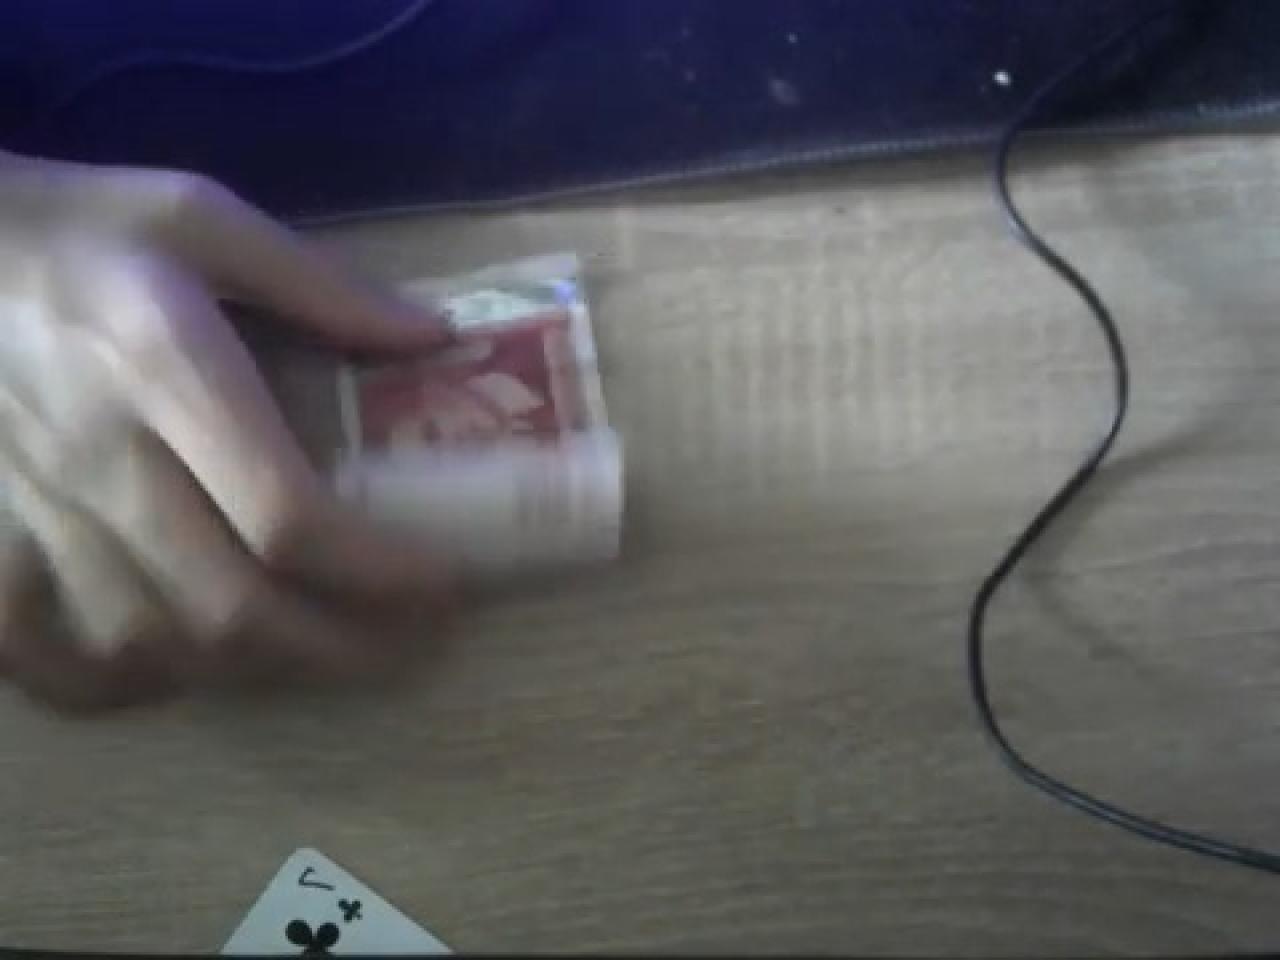5leva: (290, 253, 624, 584)
